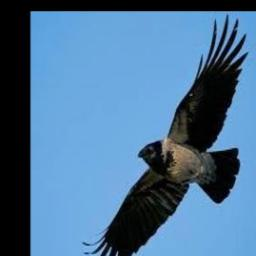Crow: (83, 13, 248, 256)
